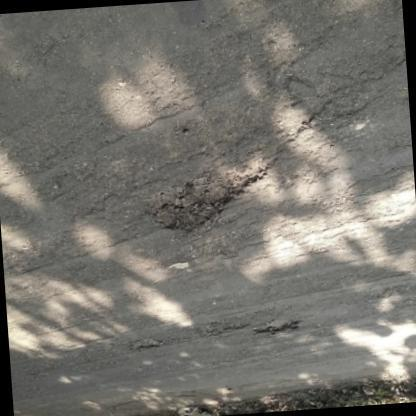pothole: (154, 164, 266, 235), (254, 313, 306, 336)
